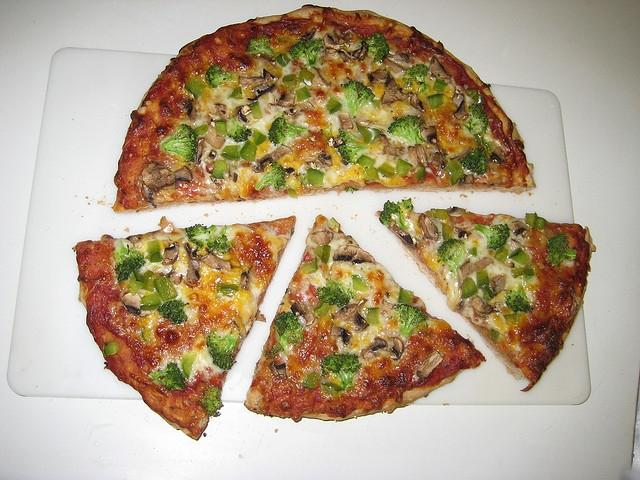broccoli: (320, 352, 362, 391), (314, 278, 354, 316), (162, 124, 198, 162), (340, 80, 376, 116), (386, 114, 426, 144), (378, 197, 413, 230), (206, 334, 238, 370), (268, 116, 306, 146), (394, 304, 426, 338), (438, 238, 464, 279), (148, 362, 186, 390), (545, 234, 576, 268), (338, 129, 368, 163), (114, 263, 144, 297), (274, 310, 302, 346), (358, 32, 389, 64), (290, 40, 325, 68), (473, 224, 510, 250), (254, 161, 286, 191), (459, 146, 490, 176), (156, 299, 190, 324), (206, 225, 235, 254), (402, 64, 430, 94), (186, 223, 217, 248), (504, 288, 534, 313), (462, 104, 488, 132), (226, 116, 252, 143), (206, 64, 234, 87), (154, 274, 177, 302), (202, 386, 222, 416), (246, 36, 275, 56), (140, 290, 161, 311), (526, 212, 548, 230), (240, 140, 258, 162), (220, 144, 240, 162), (352, 274, 371, 292), (461, 278, 478, 298), (306, 168, 324, 186), (304, 372, 321, 390), (188, 82, 205, 99), (300, 258, 318, 274), (298, 68, 314, 86), (426, 94, 444, 109), (361, 167, 380, 181), (432, 79, 448, 94), (249, 102, 263, 119), (104, 340, 118, 356), (282, 74, 297, 88), (252, 130, 267, 144), (328, 218, 340, 234), (230, 88, 243, 100), (488, 329, 499, 342), (424, 322, 428, 327)
mushroom: (140, 162, 193, 208), (252, 146, 292, 172), (190, 248, 232, 270), (332, 245, 377, 265), (416, 350, 444, 382), (120, 292, 155, 317), (244, 78, 278, 103), (332, 298, 367, 320), (238, 68, 278, 87), (290, 300, 314, 326), (204, 123, 226, 150), (360, 338, 388, 359), (428, 56, 452, 79), (418, 214, 438, 241), (452, 90, 468, 120), (160, 242, 180, 266), (324, 32, 352, 49), (236, 319, 253, 346), (471, 295, 494, 314), (469, 257, 494, 274), (408, 145, 428, 166), (489, 274, 506, 297), (348, 42, 369, 60), (311, 230, 334, 246), (393, 226, 413, 244), (408, 93, 426, 113), (311, 66, 329, 85), (390, 337, 404, 361), (351, 312, 369, 330), (187, 260, 200, 284), (254, 54, 276, 68), (490, 146, 506, 164), (212, 104, 228, 122), (422, 126, 438, 144), (338, 112, 354, 130), (180, 100, 196, 118), (270, 362, 286, 379), (195, 138, 205, 164), (384, 76, 400, 92), (512, 221, 528, 237), (278, 94, 296, 108), (167, 269, 183, 284), (458, 262, 472, 278), (382, 146, 404, 156), (446, 206, 466, 217), (328, 137, 346, 148), (318, 154, 333, 166), (510, 238, 525, 250), (452, 228, 468, 238), (329, 324, 342, 336), (340, 49, 354, 60), (241, 272, 249, 290), (399, 53, 412, 63), (456, 298, 466, 311), (282, 108, 298, 116), (242, 106, 252, 115), (125, 236, 136, 244), (209, 150, 217, 160), (438, 160, 444, 168)
